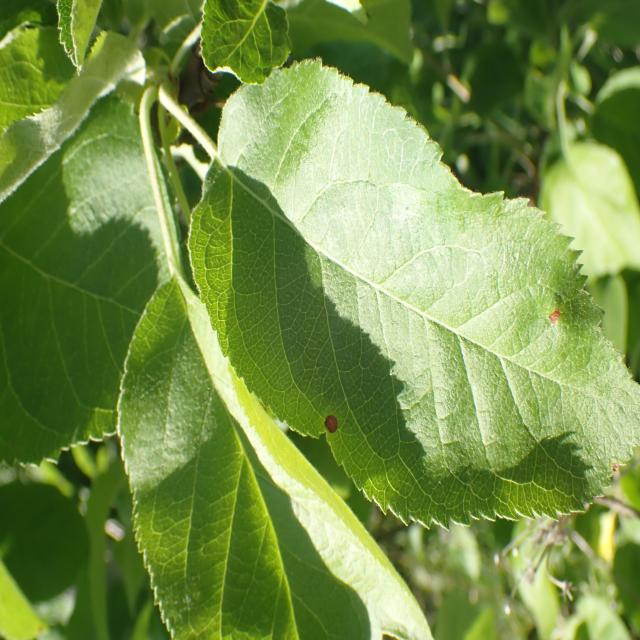Black Rot: (306, 396, 356, 454), (539, 298, 572, 339)
